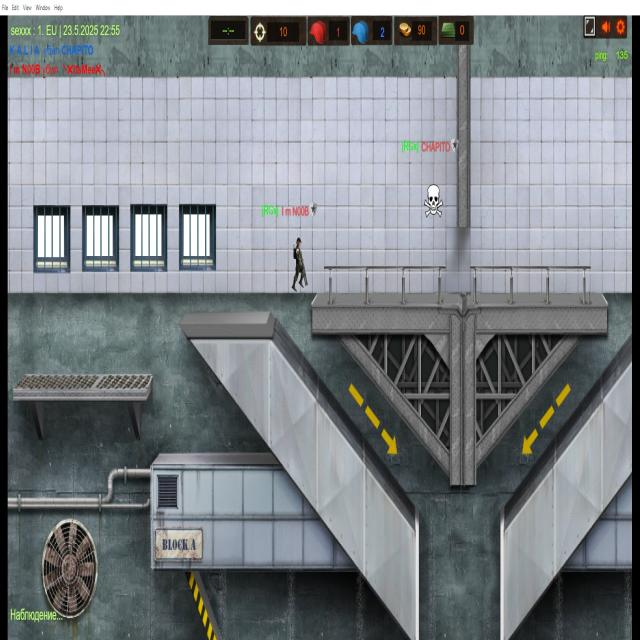enemy: (290, 236, 310, 297)
